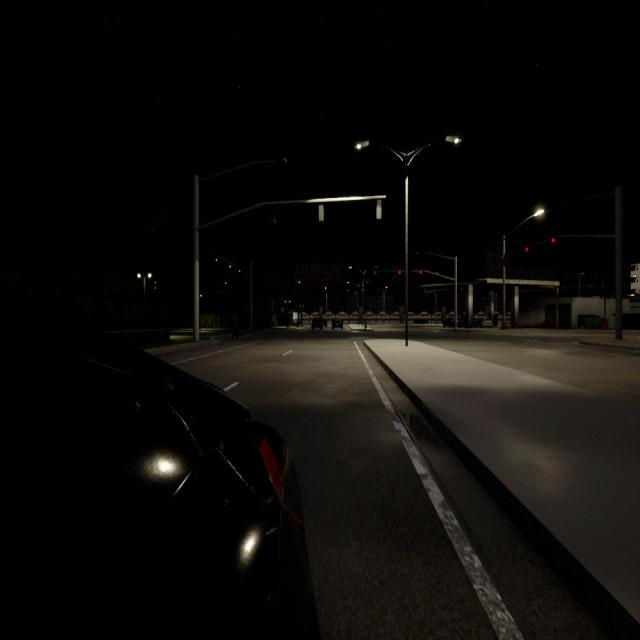Vehicle: (0, 338, 309, 638), (312, 318, 326, 329), (444, 318, 460, 327), (332, 318, 343, 329), (482, 317, 492, 327), (414, 318, 428, 324)
traffic_light: (376, 199, 382, 219), (319, 203, 324, 221), (552, 238, 556, 243), (525, 247, 529, 251), (398, 270, 401, 274), (229, 263, 231, 268), (374, 271, 376, 275), (420, 270, 422, 274), (502, 256, 504, 259), (216, 256, 217, 261), (239, 270, 240, 272)
